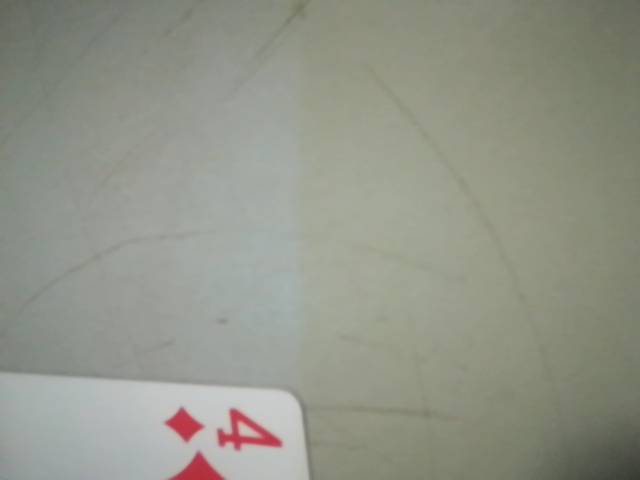fk 4: (160, 398, 295, 472)
